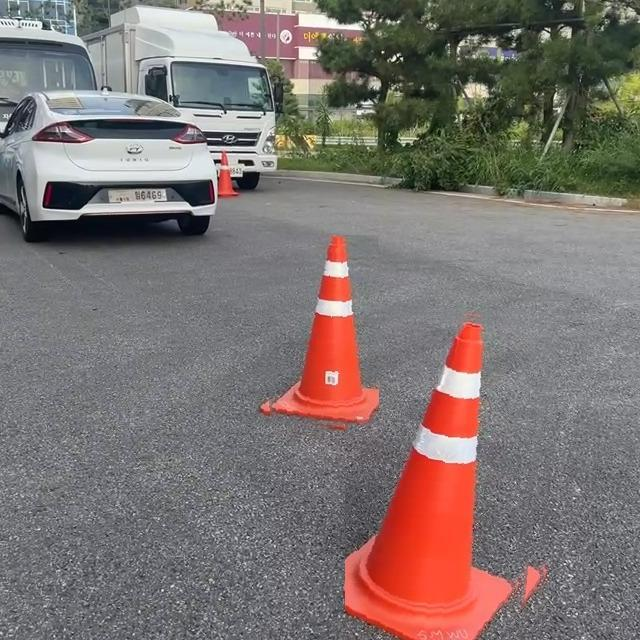fallen_object: (316, 381, 553, 633), (265, 141, 396, 457), (184, 124, 248, 237)
